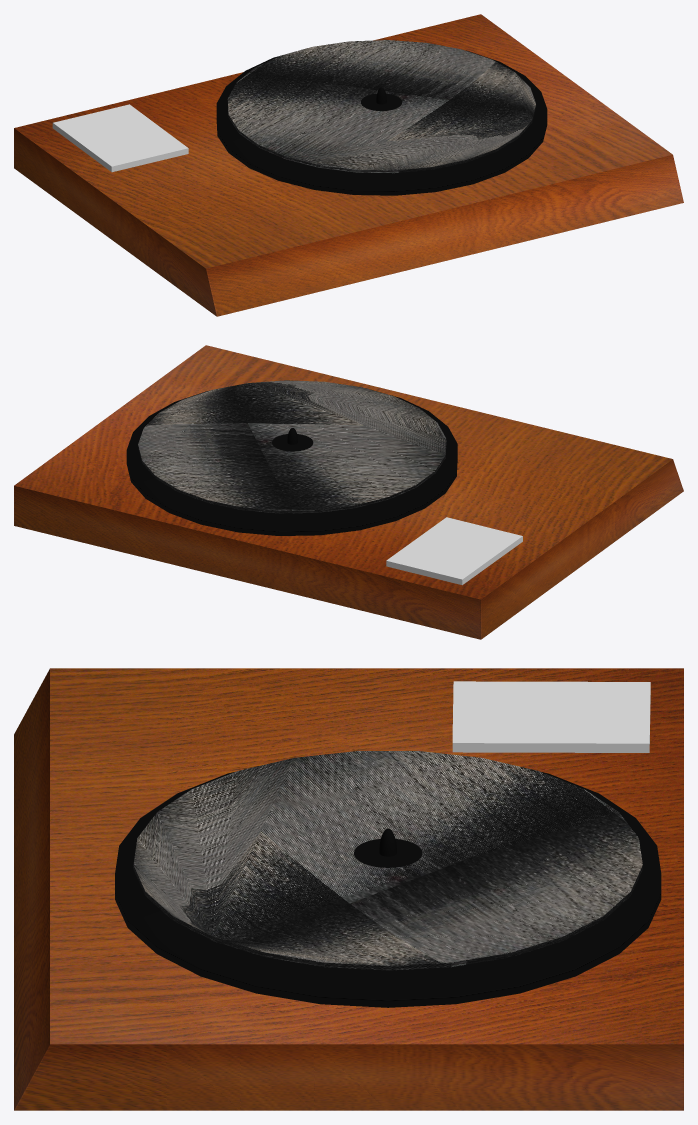
File: turntable.fbx
3 renders of one model, top to bottom at view 1: azimuth 30°, elevation 25°; view 2: azimuth 150°, elevation 25°; view 3: azimuth 270°, elevation 25°, orthographic. The views are drawn at different scales.
Parts seen in each view (by area): view 1: pCube1, pasted__pSphere2 (×2), pCube2, pSphere2; view 2: pCube1, pasted__pSphere2 (×2), pCube2, pSphere2; view 3: pCube1, pasted__pSphere2 (×2), pCube2, pSphere2.
Boxes of the visible parts, x1,y1,x2,y2 form: pCube1: [14, 14, 683, 316]; pasted__pSphere2 (×2): [216, 40, 547, 195]; pCube2: [52, 104, 188, 172]; pSphere2: [361, 93, 402, 111]; pCube1: [14, 345, 683, 639]; pasted__pSphere2 (×2): [126, 380, 457, 535]; pCube2: [386, 517, 522, 585]; pSphere2: [272, 434, 313, 451]; pCube1: [14, 668, 683, 1110]; pasted__pSphere2 (×2): [115, 751, 661, 1007]; pCube2: [452, 681, 650, 752]; pSphere2: [354, 839, 422, 867].
Size of the model in its own units: 10.53 by 1.69 by 7.93.
